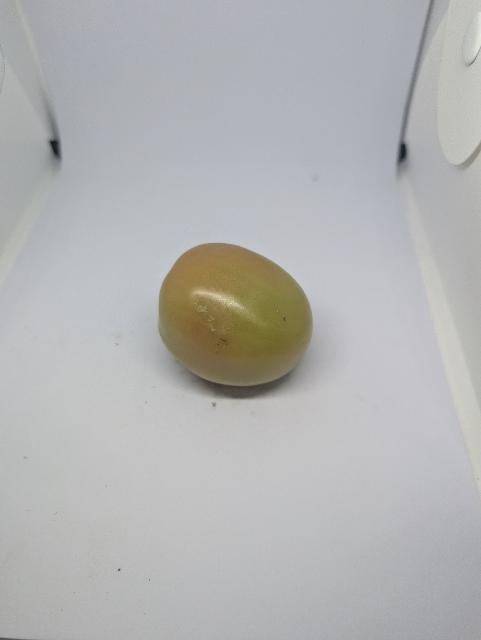breaker: (159, 243, 313, 387)
